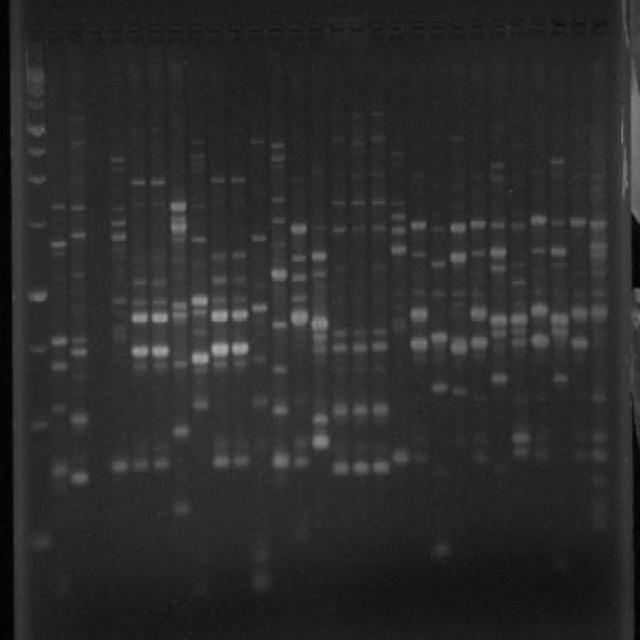B: (248, 540, 274, 566), (250, 568, 272, 597), (370, 396, 392, 422), (448, 334, 470, 358), (410, 444, 432, 468), (408, 306, 430, 329), (390, 446, 412, 468), (269, 448, 291, 470), (468, 448, 492, 468), (352, 396, 370, 422), (332, 396, 350, 422), (528, 300, 550, 320), (409, 333, 429, 355), (588, 427, 612, 445), (172, 499, 194, 518), (290, 432, 310, 452), (568, 428, 588, 448), (430, 330, 448, 352), (529, 332, 551, 350), (350, 458, 372, 476), (69, 470, 91, 488), (469, 430, 491, 448), (230, 432, 252, 450), (170, 214, 187, 237), (289, 309, 309, 328), (510, 429, 532, 446), (589, 447, 611, 464), (292, 453, 314, 470), (468, 304, 488, 322), (570, 304, 590, 322), (210, 340, 230, 358), (69, 410, 89, 428), (310, 432, 330, 450), (231, 452, 251, 470), (210, 452, 230, 470), (130, 456, 150, 474), (109, 456, 129, 474), (372, 457, 390, 477), (329, 458, 349, 476), (533, 444, 553, 462), (486, 244, 508, 260), (548, 312, 570, 328), (269, 402, 291, 418), (509, 310, 528, 328), (232, 338, 250, 357), (432, 539, 450, 558), (288, 220, 308, 237), (211, 307, 231, 324), (350, 339, 370, 356), (172, 424, 192, 441), (590, 304, 608, 322), (490, 312, 508, 330), (570, 334, 588, 352), (470, 334, 488, 352), (190, 350, 208, 368), (192, 395, 210, 413), (152, 456, 170, 474), (568, 214, 588, 230), (310, 316, 330, 332), (150, 343, 170, 359), (129, 344, 149, 360), (210, 436, 230, 452), (568, 448, 588, 464), (548, 244, 570, 258), (510, 446, 532, 460), (450, 249, 468, 266), (110, 324, 128, 341), (590, 473, 607, 490), (410, 216, 428, 232), (450, 220, 468, 236), (210, 291, 228, 307), (232, 306, 250, 322), (52, 460, 68, 478), (532, 428, 551, 443), (388, 146, 408, 160), (528, 214, 548, 228), (588, 218, 608, 232), (310, 249, 330, 263), (309, 266, 329, 280), (269, 267, 289, 281), (550, 328, 570, 342), (310, 344, 330, 358), (210, 358, 230, 372), (49, 360, 69, 374), (150, 360, 170, 374), (130, 360, 150, 374), (550, 372, 570, 386), (249, 394, 269, 408), (310, 414, 330, 428), (529, 286, 549, 300), (470, 217, 488, 232), (490, 371, 508, 386), (548, 214, 567, 228), (569, 288, 588, 302), (588, 390, 610, 402), (129, 275, 149, 288), (370, 326, 390, 339), (310, 332, 330, 345), (49, 335, 69, 348), (330, 342, 350, 355), (50, 402, 70, 415), (370, 220, 388, 234), (390, 242, 408, 256), (210, 250, 228, 264), (590, 250, 608, 264), (430, 257, 448, 271), (290, 270, 308, 284), (450, 286, 468, 300), (290, 290, 308, 304), (150, 294, 168, 308), (190, 294, 208, 308), (250, 302, 268, 316), (150, 310, 168, 324), (130, 310, 148, 324), (372, 340, 390, 354), (232, 357, 250, 371), (450, 384, 468, 398), (229, 249, 248, 262), (509, 336, 528, 349), (268, 160, 287, 173), (588, 290, 610, 301), (588, 170, 608, 182), (428, 224, 448, 236), (588, 240, 608, 252), (548, 260, 568, 272), (230, 274, 250, 286), (210, 274, 230, 286), (391, 318, 407, 333), (170, 198, 187, 212), (509, 260, 526, 274), (490, 260, 507, 274), (388, 195, 406, 208), (350, 222, 368, 235), (510, 275, 528, 288), (230, 292, 248, 305), (170, 298, 188, 311), (350, 326, 368, 339), (70, 346, 88, 359), (430, 381, 448, 394), (590, 515, 608, 528), (388, 210, 407, 222), (528, 244, 547, 256), (128, 198, 147, 210), (252, 352, 268, 366), (272, 360, 288, 374), (591, 502, 607, 516), (370, 195, 387, 208), (509, 218, 526, 231), (489, 218, 506, 231), (470, 247, 487, 260), (270, 318, 287, 331), (149, 197, 166, 210), (588, 268, 610, 278), (170, 310, 190, 321), (189, 367, 209, 378), (430, 288, 448, 300), (330, 328, 348, 340), (70, 334, 88, 346), (509, 327, 528, 338), (190, 160, 206, 173), (331, 222, 347, 235), (412, 286, 428, 299), (192, 326, 208, 339), (389, 224, 406, 236), (50, 238, 67, 250), (409, 248, 426, 260), (310, 222, 328, 233), (290, 253, 308, 264), (370, 263, 388, 274), (110, 296, 128, 307), (490, 329, 508, 340), (172, 359, 190, 370), (348, 170, 366, 181), (109, 232, 128, 242), (269, 140, 286, 151), (270, 193, 287, 204), (70, 230, 87, 241), (170, 253, 187, 264), (70, 270, 87, 281), (412, 170, 426, 183), (588, 184, 608, 193), (191, 200, 206, 212), (150, 276, 168, 286), (130, 296, 148, 306), (370, 132, 386, 143), (110, 153, 126, 164), (270, 216, 286, 227), (192, 307, 208, 318), (548, 157, 567, 166), (108, 218, 127, 227), (249, 233, 268, 242), (370, 168, 387, 178), (330, 198, 347, 208), (191, 233, 206, 244), (70, 373, 88, 382), (70, 173, 84, 184), (149, 177, 166, 186), (130, 177, 147, 186), (350, 198, 367, 207), (229, 175, 248, 183), (68, 204, 87, 212), (108, 205, 127, 213), (190, 151, 206, 160), (108, 245, 128, 252), (450, 135, 467, 143), (350, 140, 367, 148), (269, 153, 286, 161), (49, 203, 66, 211), (69, 115, 86, 123), (50, 250, 67, 258), (70, 302, 87, 310), (370, 110, 386, 118), (250, 138, 266, 146), (190, 138, 206, 146), (490, 162, 506, 170), (490, 174, 506, 182), (70, 136, 86, 144), (211, 175, 226, 183), (70, 102, 84, 110), (350, 134, 366, 140)
L: (20, 5, 612, 52)
M: (22, 47, 52, 558)
P: (24, 53, 48, 84), (26, 530, 52, 556), (26, 416, 52, 438), (24, 116, 48, 138), (24, 96, 48, 116), (24, 215, 50, 232), (26, 338, 49, 357), (24, 140, 48, 158), (26, 168, 48, 187), (27, 288, 50, 306), (23, 82, 49, 96)
Pc: (546, 10, 568, 38), (589, 11, 611, 38), (569, 12, 589, 40), (63, 15, 85, 40), (428, 16, 450, 41), (84, 18, 104, 44), (326, 18, 346, 44), (184, 20, 207, 42), (124, 20, 144, 45), (42, 16, 61, 42), (226, 20, 245, 46), (22, 18, 42, 42), (388, 18, 408, 42), (145, 20, 164, 45), (104, 20, 124, 43), (408, 17, 428, 40), (368, 18, 387, 42), (266, 22, 286, 44), (468, 16, 488, 38), (489, 16, 509, 38), (165, 21, 184, 44), (247, 20, 266, 42), (528, 14, 547, 36), (308, 20, 324, 45), (348, 18, 366, 40), (450, 16, 468, 38), (510, 14, 528, 36), (207, 20, 224, 42), (287, 22, 304, 44)
